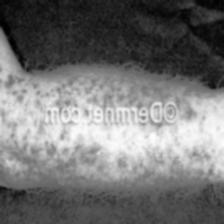Potentially Malignant Skin Tumors: (22, 128, 208, 170)
